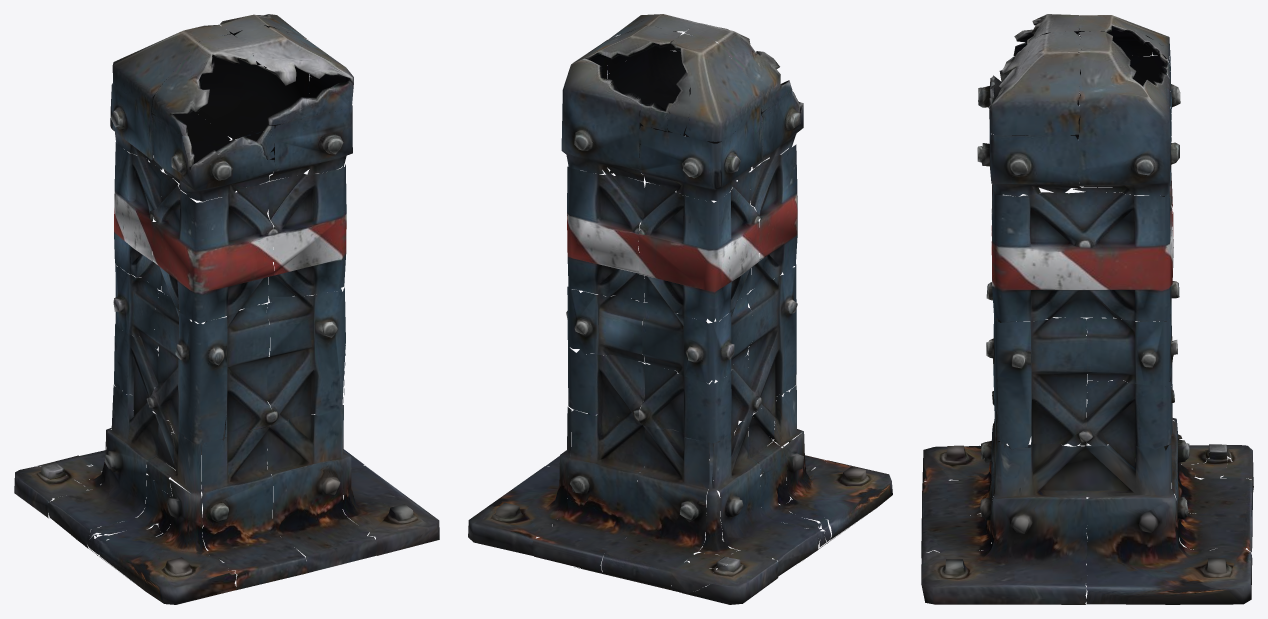
File: pillar.glb
The picture shows the model from 3 angles, left to right: view 1: azimuth 30°, elevation 25°; view 2: azimuth 150°, elevation 25°; view 3: azimuth 270°, elevation 25°; orthographic projection. The views are drawn at different scales.
Visible parts, largest first — view 1: Mesh; view 2: Mesh; view 3: Mesh.
Boxes of the visible parts, <box> form: Mesh: <box>14,14,439,604</box>; Mesh: <box>468,14,892,604</box>; Mesh: <box>921,14,1253,604</box>.
Size of the model in its own units: 3.15 by 5.2 by 3.11.
1 material, 1 textured.
